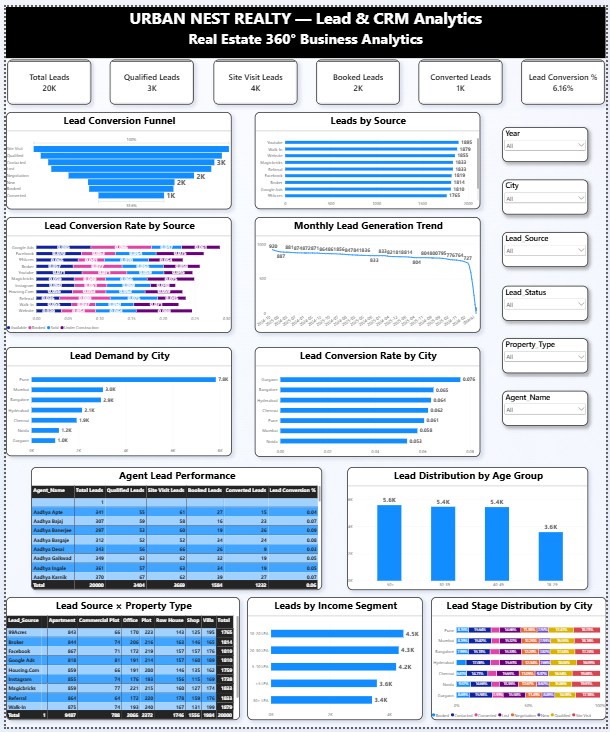

This screenshot's page, from the dashboard's own definition file:
{"tool":"powerbi","page":{"name":"Lead_&_CRM_Analytics","canvas":[2000,2400],"ordinal":3},"visuals":[{"type":"cardVisual","fields":{"Data":["_Lead_Measures.Total Leads"]},"box":[4.9,175.3,280,150],"z":0},{"type":"cardVisual","fields":{"Data":["_Lead_Measures.Lead Conversion %"]},"box":[1718.3,175,280,150],"z":1000},{"type":"cardVisual","fields":{"Data":["_Lead_Measures.Qualified Leads"]},"box":[347.6,175.3,280,150],"z":2000},{"type":"cardVisual","fields":{"Data":["_Lead_Measures.Site Visit Leads"]},"box":[690.3,175.3,280,150],"z":3000},{"type":"cardVisual","title":"Sell Through %","fields":{"Data":["_Lead_Measures.Converted Leads"]},"box":[1375.7,175.3,280,150],"z":4000},{"type":"cardVisual","fields":{"Data":["_Lead_Measures.Booked Leads"]},"box":[1033,175.3,280,150],"z":5000},{"type":"funnel","title":"Lead Conversion Funnel","fields":{"Category":["Fact_Leads.Lead_Status"],"Y":["_Lead_Measures.Total Leads"]},"box":[0,351.7,751.7,325],"z":6000},{"type":"barChart","title":"Leads by Source","fields":{"Category":["Fact_Leads.Lead_Source"],"Y":["_Lead_Measures.Total Leads"]},"box":[830,352,752,324],"z":7000},{"type":"lineChart","title":"Monthly Lead Generation Trend","fields":{"Category":["Dim_Date.Year_Month"],"Y":["_Lead_Measures.Total Leads"]},"box":[830,702,752.9,385.7],"z":8000},{"type":"barChart","title":"Lead Demand by City","fields":{"Category":["Dim_Location.City"],"Y":["_Lead_Measures.Total Leads"]},"box":[0,1134,752.9,364.3],"z":9000},{"type":"barChart","title":"Lead Conversion Rate by Source","fields":{"Category":["Fact_Leads.Lead_Source"],"Series":["Dim_Property.Property_Status"],"Y":["_Lead_Measures.Conversion Rate by Source"]},"box":[0,702,752,386],"z":10000},{"type":"barChart","title":"Lead Conversion Rate by City","fields":{"Category":["Dim_Location.City"],"Y":["_Lead_Measures.Lead Conversion %"]},"box":[830,1134,752,366],"z":11000},{"type":"pivotTable","title":"Agent Lead Performance","fields":{"Rows":["Dim_Agent.Agent_Name"],"Values":["_Lead_Measures.Total Leads","_Lead_Measures.Qualified Leads","_Lead_Measures.Site Visit Leads","_Lead_Measures.Booked Leads","_Lead_Measures.Converted Leads","_Lead_Measures.Lead Conversion %"]},"box":[82.7,1532.7,970,410],"z":12000},{"type":"columnChart","title":"Lead Distribution by Age Group","fields":{"Category":["Dim_Customer.Age_Group"],"Y":["_Lead_Measures.Total Leads"]},"box":[1136.7,1533.3,803.3,410],"z":13000},{"type":"slicer","fields":{"Values":["Dim_Date.Year"]},"box":[1652.2,398.7,286.7,116.7],"z":14000},{"type":"slicer","fields":{"Values":["Dim_Property.Property_Type"]},"box":[1652.2,1104.7,286.7,116.7],"z":15000},{"type":"slicer","fields":{"Values":["Fact_Leads.Lead_Status"]},"box":[1652.2,928.2,286.7,116.7],"z":16000},{"type":"slicer","fields":{"Values":["Fact_Leads.Lead_Source"]},"box":[1652.2,751.7,286.7,116.7],"z":17000},{"type":"slicer","fields":{"Values":["Dim_Location.City"]},"box":[1652.2,575.2,286.7,116.7],"z":18000},{"type":"slicer","fields":{"Values":["Dim_Agent.Agent_Name"]},"box":[1652.2,1281.2,286.7,116.7],"z":19000},{"type":"textbox","box":[6,20,280,150],"z":20000},{"type":"textbox","box":[0,0,1998,170],"z":21000},{"type":"barChart","title":"Leads by Income Segment","fields":{"Category":["Dim_Customer.Income_Range"],"Y":["_Lead_Measures.Total Leads"]},"box":[805,1966.7,585,410],"z":22000},{"type":"pivotTable","title":" Lead Source × Property Type","fields":{"Columns":["Dim_Property.Property_Type"],"Rows":["Fact_Leads.Lead_Source"],"Values":["_Lead_Measures.Total Leads"]},"box":[0,1966.7,780,410],"z":23000},{"type":"hundredPercentStackedBarChart","title":"Lead Stage Distribution by City","fields":{"Category":["Dim_Location.City"],"Series":["Fact_Leads.Lead_Status"],"Y":["_Lead_Measures.Total Leads"]},"box":[1415,1966.7,585,410],"z":24000}]}

Visuals, with their boxes in screenshot pixels (x1, y1, x2, y2), scaled from the page's 2000x2400 canvas onto the 610x732 screenshot:
cardVisual - _Lead_Measures.Total Leads: crop(1, 53, 87, 99)
cardVisual - _Lead_Measures.Lead Conversion %: crop(524, 53, 609, 99)
cardVisual - _Lead_Measures.Qualified Leads: crop(106, 53, 191, 99)
cardVisual - _Lead_Measures.Site Visit Leads: crop(211, 53, 296, 99)
"Sell Through %" cardVisual: crop(420, 53, 505, 99)
cardVisual - _Lead_Measures.Booked Leads: crop(315, 53, 400, 99)
"Lead Conversion Funnel" funnel: crop(0, 107, 229, 206)
"Leads by Source" barChart: crop(253, 107, 483, 206)
"Monthly Lead Generation Trend" lineChart: crop(253, 214, 483, 332)
"Lead Demand by City" barChart: crop(0, 346, 230, 457)
"Lead Conversion Rate by Source" barChart: crop(0, 214, 229, 332)
"Lead Conversion Rate by City" barChart: crop(253, 346, 483, 458)
"Agent Lead Performance" pivotTable: crop(25, 467, 321, 593)
"Lead Distribution by Age Group" columnChart: crop(347, 468, 592, 593)
slicer - Dim_Date.Year: crop(504, 122, 591, 157)
slicer - Dim_Property.Property_Type: crop(504, 337, 591, 373)
slicer - Fact_Leads.Lead_Status: crop(504, 283, 591, 319)
slicer - Fact_Leads.Lead_Source: crop(504, 229, 591, 265)
slicer - Dim_Location.City: crop(504, 175, 591, 211)
slicer - Dim_Agent.Agent_Name: crop(504, 391, 591, 426)
textbox: crop(2, 6, 87, 52)
textbox: crop(0, 0, 609, 52)
"Leads by Income Segment" barChart: crop(246, 600, 424, 725)
" Lead Source × Property Type" pivotTable: crop(0, 600, 238, 725)
"Lead Stage Distribution by City" hundredPercentStackedBarChart: crop(432, 600, 609, 725)
